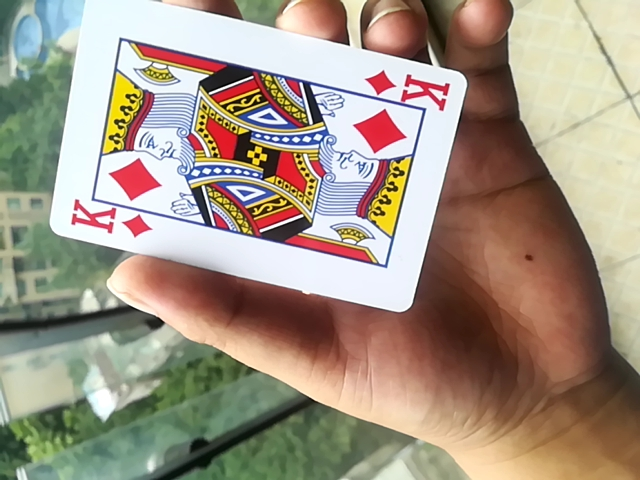fk k: (45, 1, 473, 320)
